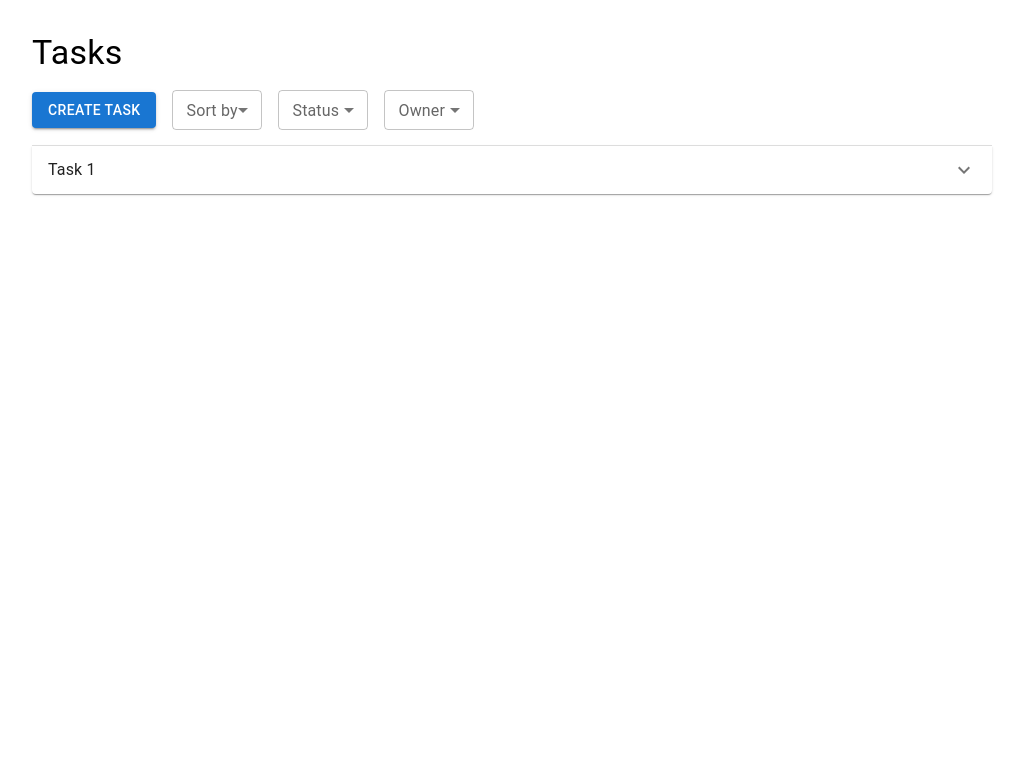
Scenario: TasksPage Integration › closes create dialog without submitting
Expected: the text "Task 1" is shown, [48, 158, 96, 182]
Click the button "Create Task": (94, 110) [32, 92, 156, 128]
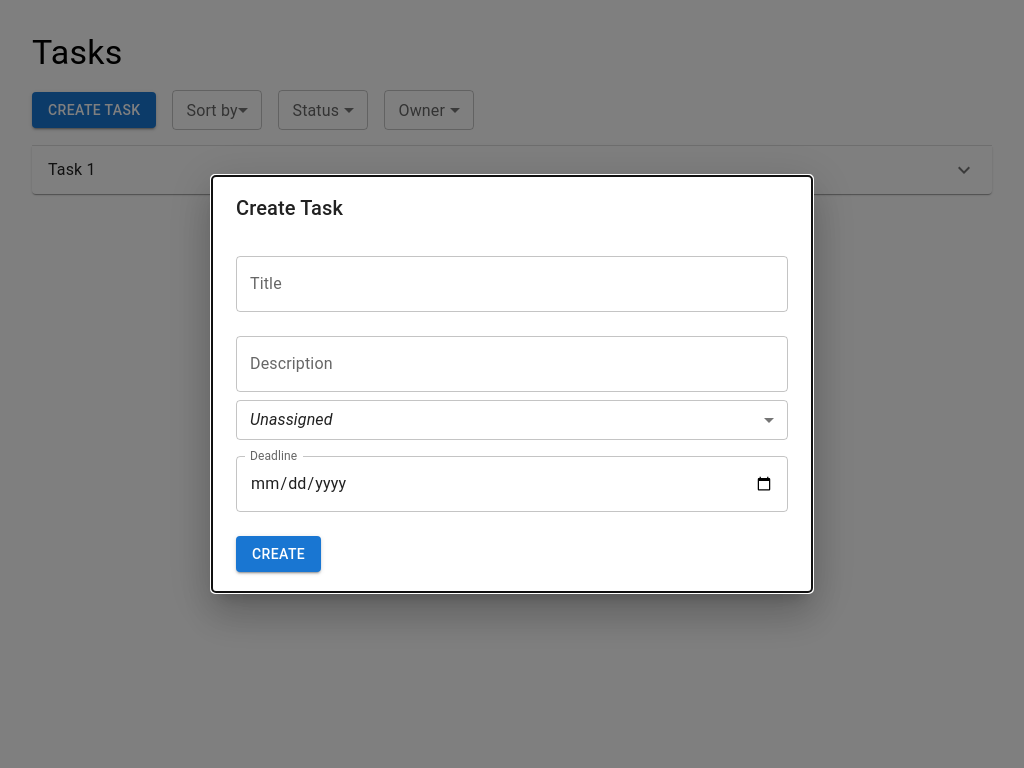
Result: the dialog is shown at [212, 176, 812, 592]
Press Escape
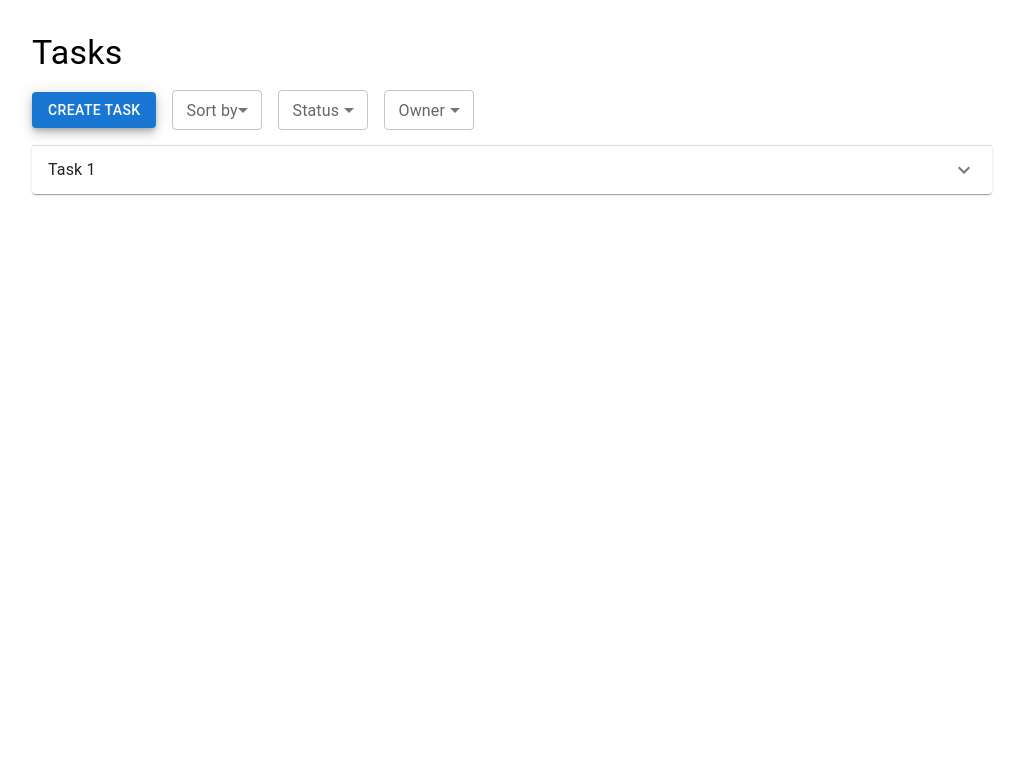
Result: the dialog is gone
